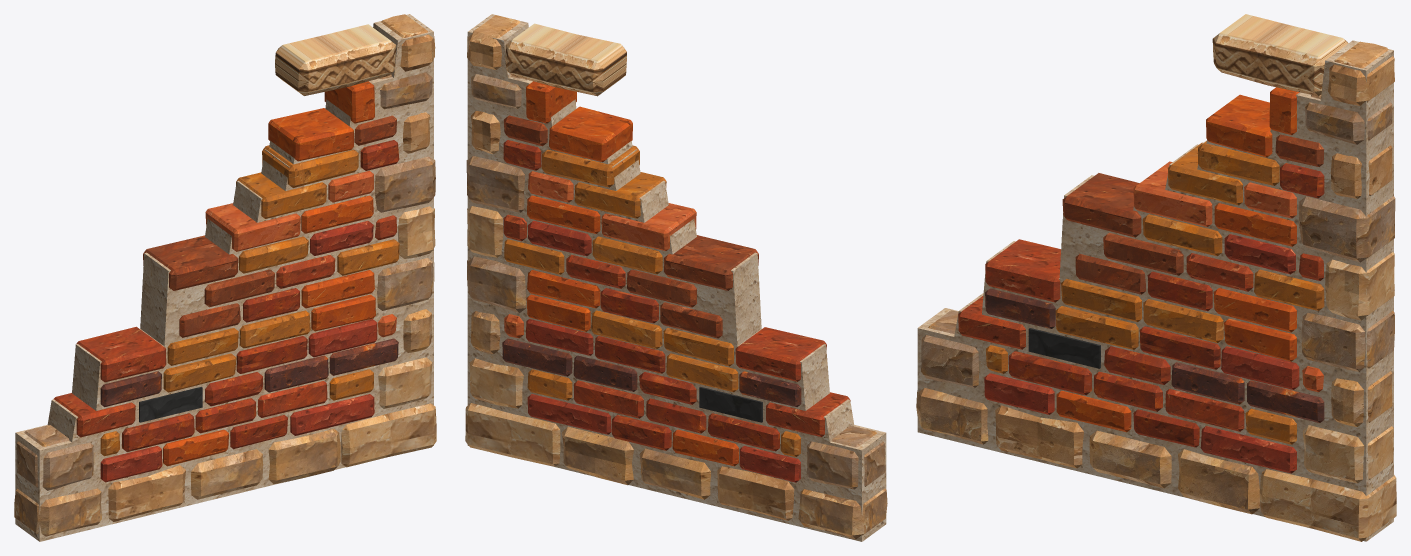
The model's file is ruin_wall_collapsed__clay_brick.glb.
3 views of the same model, side by side, from view 1: azimuth 30°, elevation 25°; view 2: azimuth 150°, elevation 25°; view 3: azimuth 330°, elevation 25° (orthographic). The views are drawn at different scales.
Parts seen in each view (by area): view 1: model; view 2: model; view 3: model.
Boxes of the visible parts, box(x1,y1,x2,y2) form: model: box(14, 14, 436, 541); model: box(465, 14, 887, 541); model: box(916, 14, 1396, 541).
Size of the model in its own units: 1.98 by 1.98 by 0.2832.
Materials: 15 (15 with a texture image).
